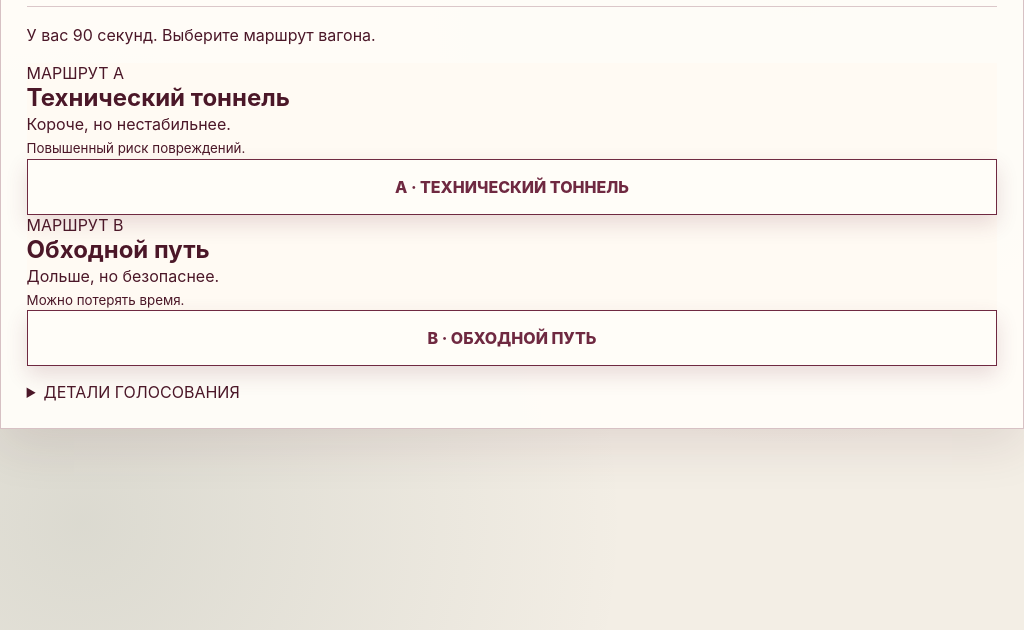
Test: MissionFivePlayer › restores the secondary ability action after a rejected command
The width and height of the screenshot is (1024, 630).
Click the heading "ДЕТАЛИ ГОЛОСОВАНИЯ" at {"x": 142, "y": 392}, box [44, 382, 240, 402]
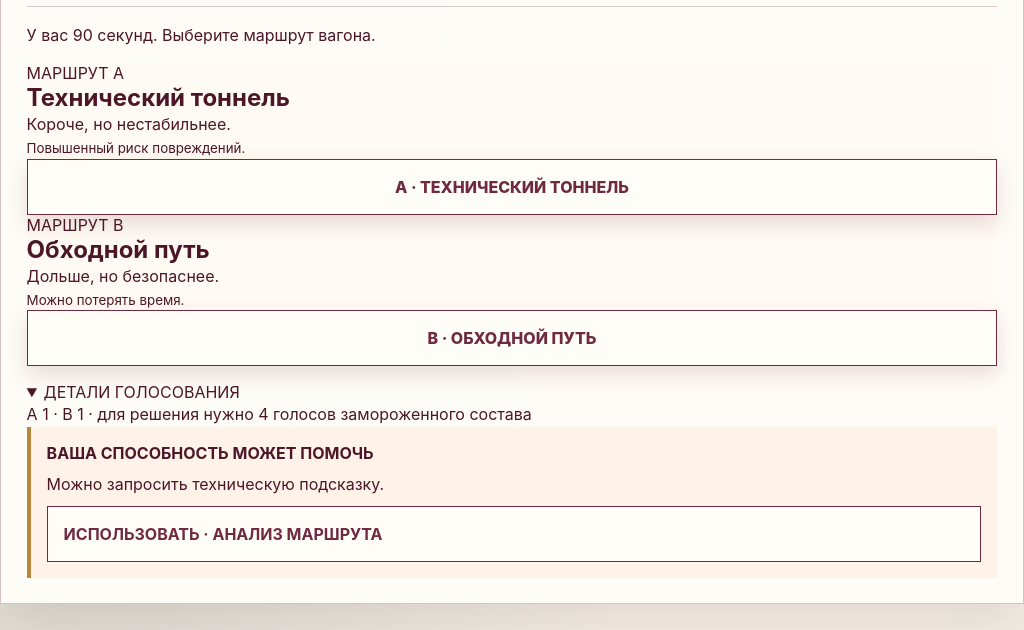
Click the button "ИСПОЛЬЗОВАТЬ · АНАЛИЗ МАРШРУТА" at {"x": 138, "y": 534}, box [47, 506, 981, 562]
(page scrolled)
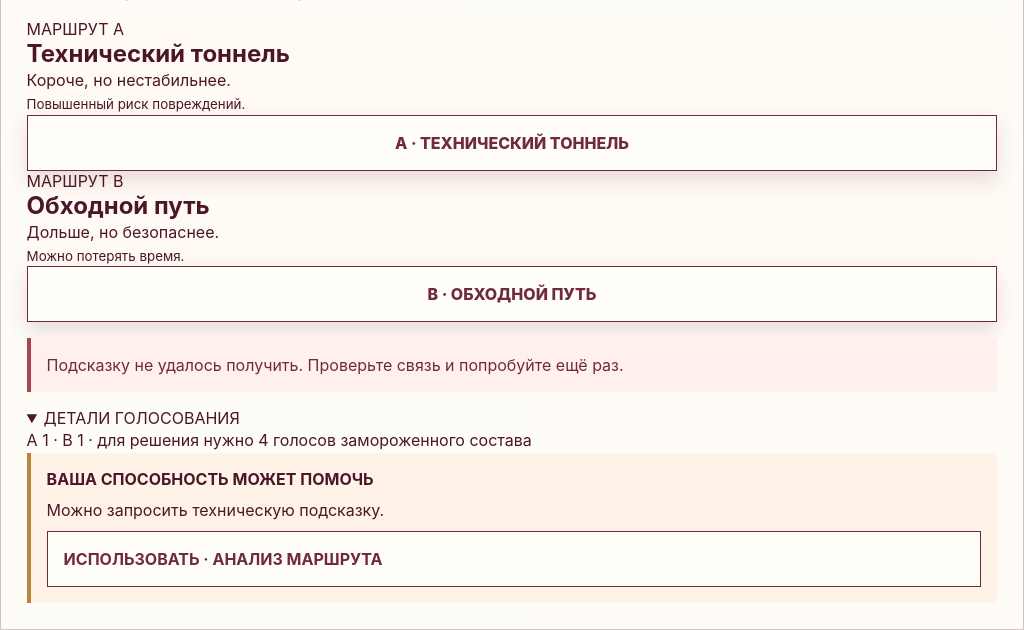
Now the button "ИСПОЛЬЗОВАТЬ · АНАЛИЗ МАРШРУТА" is enabled, box [47, 531, 981, 587]
Now the message reads "Подсказку не удалось получить. Проверьте связь и попробуйте ещё раз.", box [47, 355, 624, 375]
